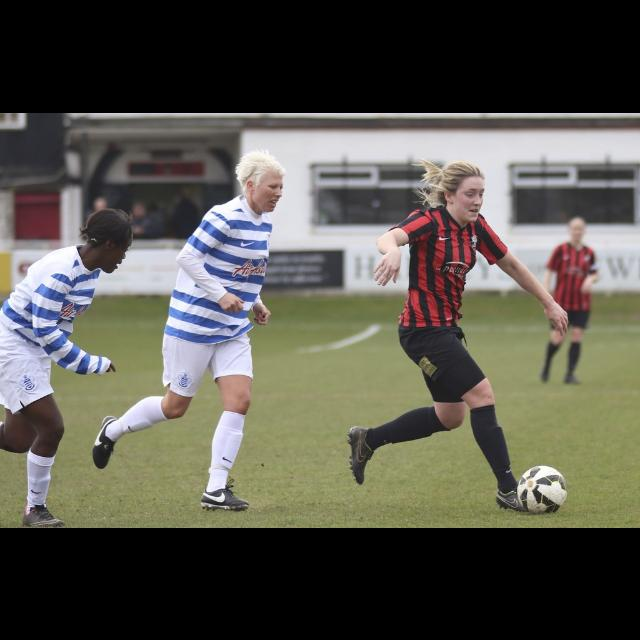Football: (515, 464, 567, 514)
